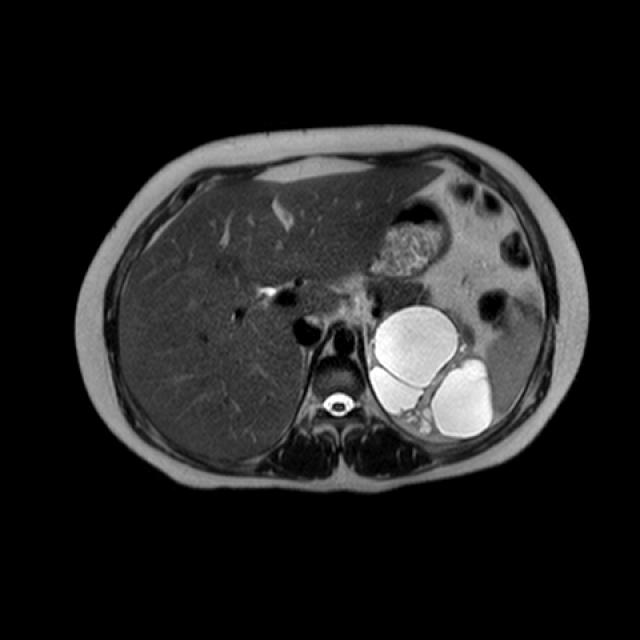sol: (369, 305, 493, 439)
